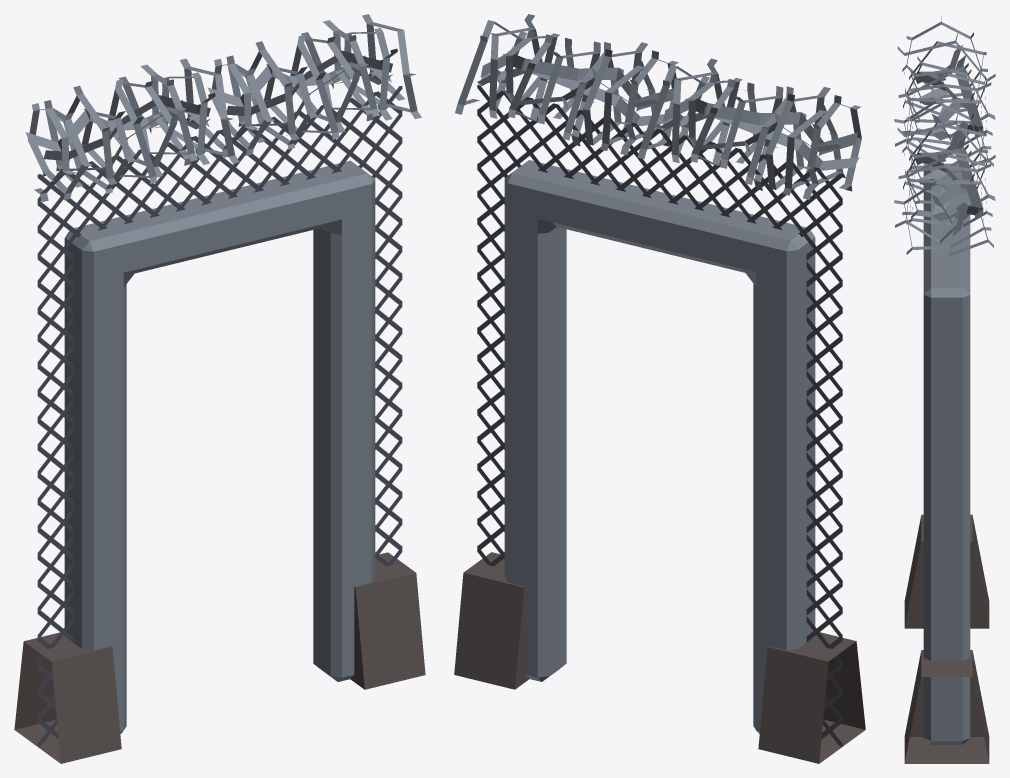
Rendered from fence_door_frame.glb.
3 views of the same model, side by side, from view 1: azimuth 30°, elevation 25°; view 2: azimuth 150°, elevation 25°; view 3: azimuth 270°, elevation 25° (orthographic). The views are drawn at different scales.
Parts seen in each view (by area): view 1: Cube.009; view 2: Cube.009; view 3: Cube.009.
Boxes of the visible parts, left/top/right/bottom form: Cube.009: left=14, top=14, right=425, bottom=763; Cube.009: left=454, top=14, right=865, bottom=763; Cube.009: left=894, top=15, right=995, bottom=763.
Bounding box in the file's own units: 4.08 × 6.78 × 1.06.
3 materials, 1 textured.
